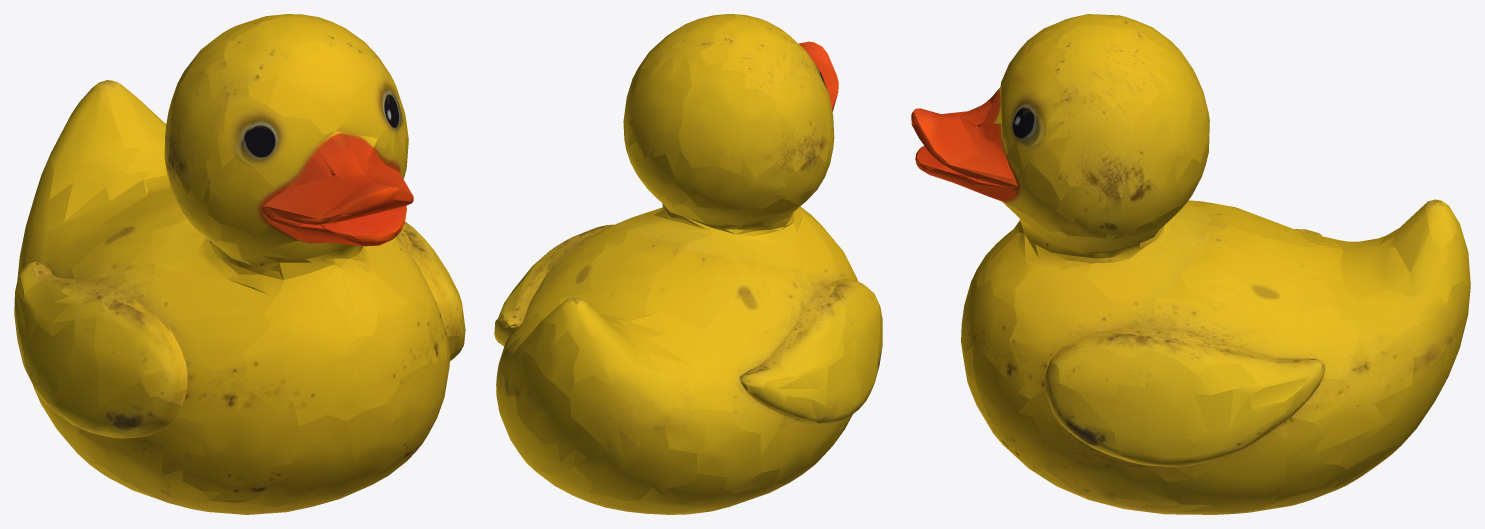
The model's file is paperella.glb.
3 renders of one model, left to right at view 1: azimuth 30°, elevation 25°; view 2: azimuth 150°, elevation 25°; view 3: azimuth 270°, elevation 25°, orthographic. The views are drawn at different scales.
Size of the model in its own units: 1.42 by 1.65 by 1.9.
Materials: 1 (1 with a texture image).
